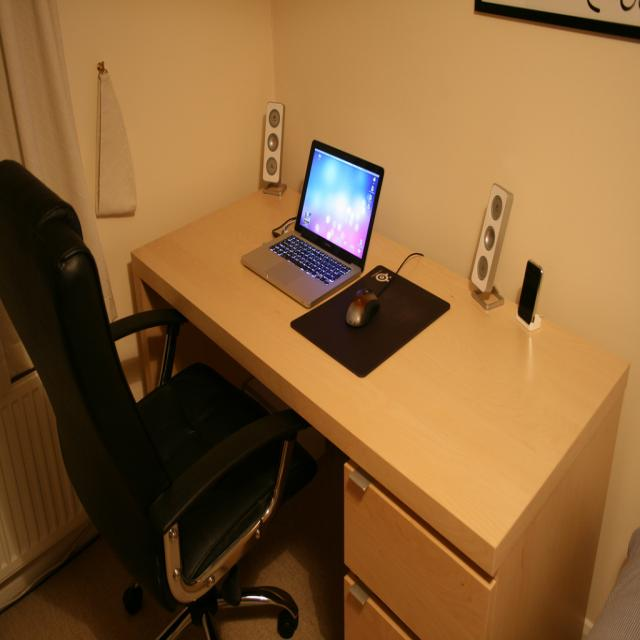chair: (0, 157, 312, 639)
desk: (132, 182, 632, 639)
keyboard: (268, 232, 353, 285)
laptop: (240, 138, 385, 311)
mouse: (344, 289, 380, 328)
